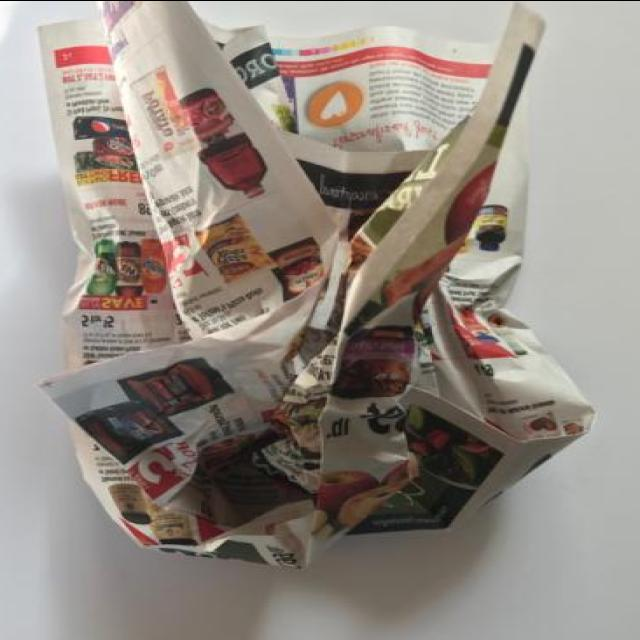kertas: (35, 0, 593, 570)
